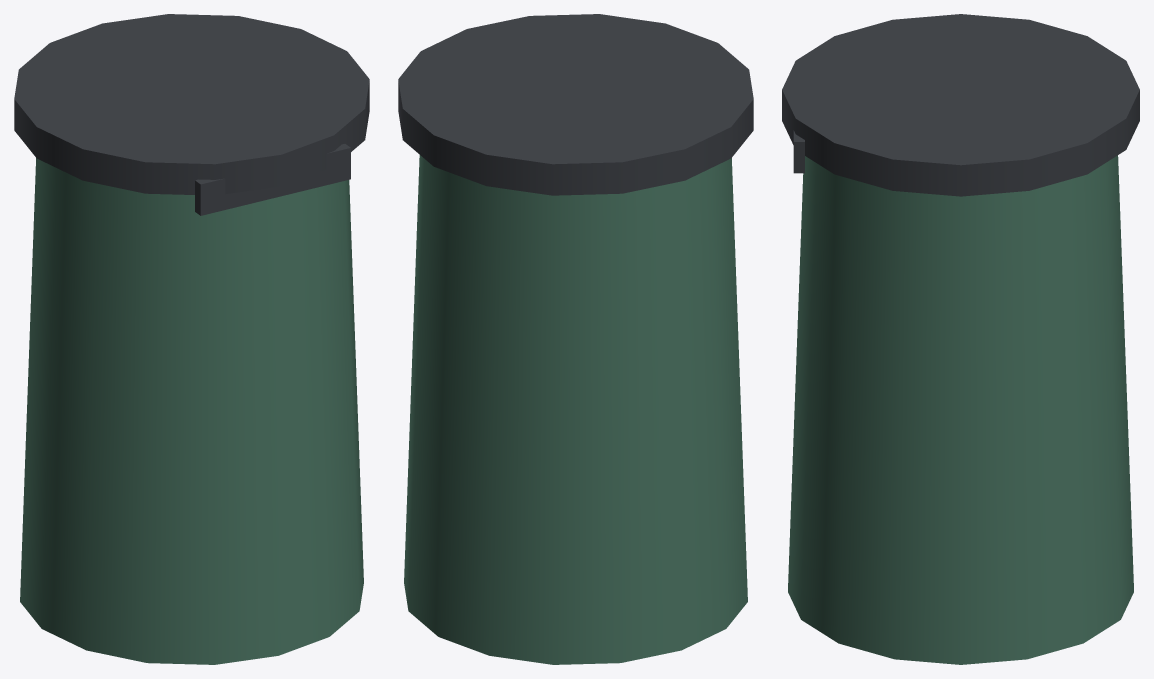
File: prop_litter_bin.glb
The picture shows the model from 3 angles, left to right: view 1: azimuth 30°, elevation 25°; view 2: azimuth 150°, elevation 25°; view 3: azimuth 270°, elevation 25°; orthographic projection.
Parts seen in each view (by area): view 1: litter_bin.001; view 2: litter_bin.001; view 3: litter_bin.001.
Boxes of the visible parts, x1,y1,x2,y2 form: litter_bin.001: (14, 14, 369, 664); litter_bin.001: (398, 14, 753, 664); litter_bin.001: (782, 14, 1139, 664).
Bounding box in the file's own units: 0.62 × 0.96 × 0.62.
